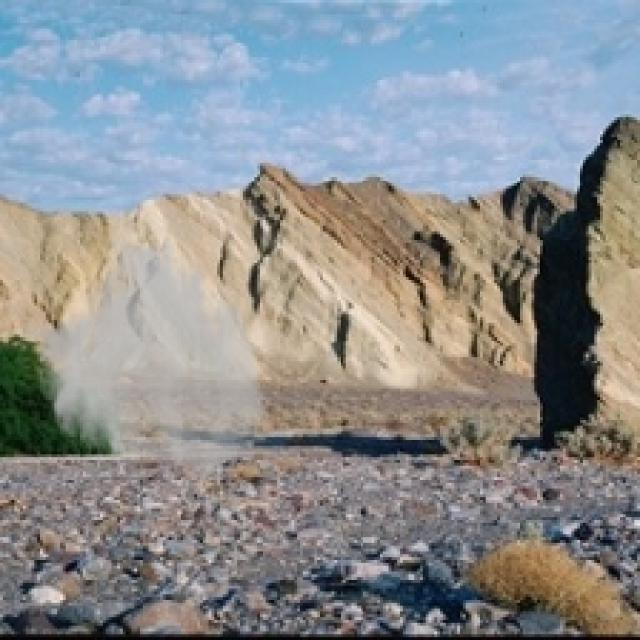smoke: (34, 228, 269, 483)
